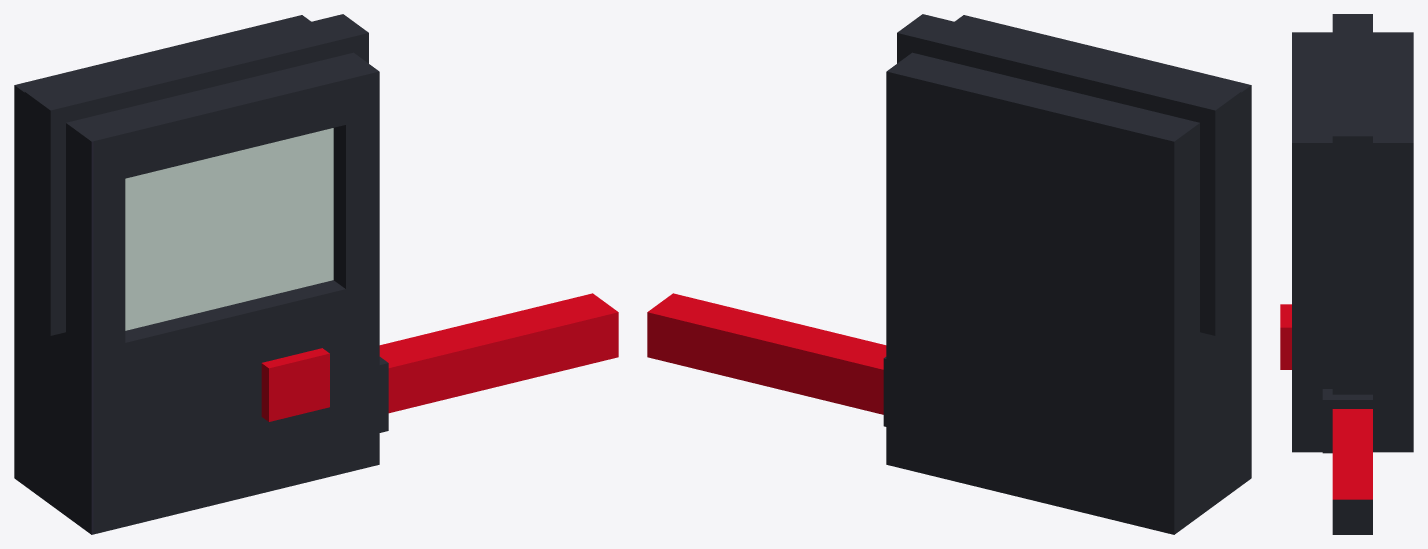
The model's file is Building_GarageDoor_Opener_Red.fbx.
3 views of the same model, side by side, from view 1: azimuth 30°, elevation 25°; view 2: azimuth 150°, elevation 25°; view 3: azimuth 270°, elevation 25° (orthographic). The views are drawn at different scales.
Parts seen in each view (by area): view 1: GarageDoor_Opener_Red; view 2: GarageDoor_Opener_Red; view 3: GarageDoor_Opener_Red.
Boxes of the visible parts, <box> form: GarageDoor_Opener_Red: <box>14,14,618,534</box>; GarageDoor_Opener_Red: <box>647,14,1251,534</box>; GarageDoor_Opener_Red: <box>1280,14,1413,534</box>.
Size of the model in its own units: 41.82 by 28.8 by 10.81.
